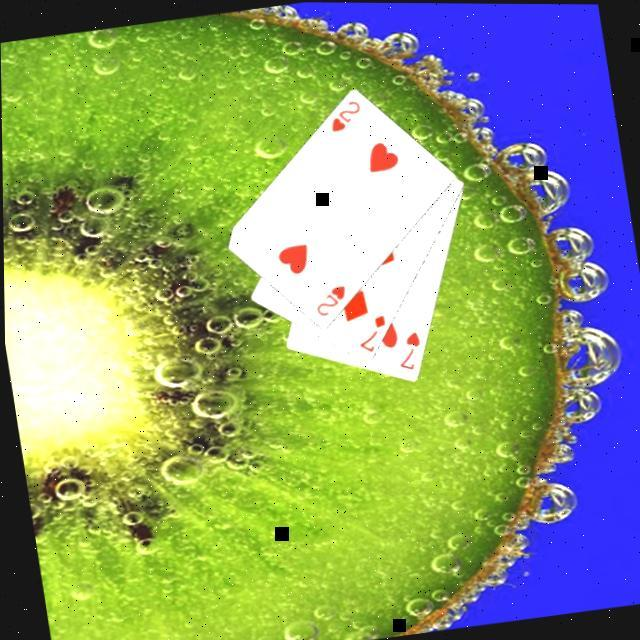2H: (308, 282, 350, 321), (323, 97, 365, 136)
7D: (350, 312, 392, 357)
7H: (389, 327, 426, 375)
